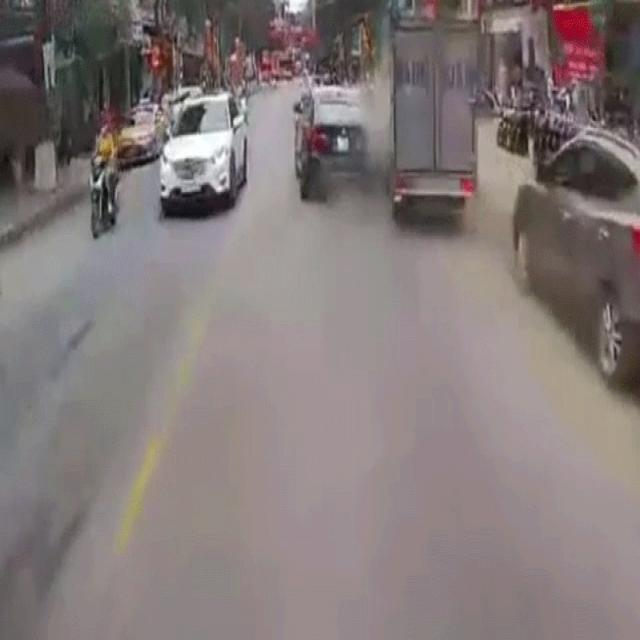multiple_accident: (289, 9, 486, 239)
normal: (56, 43, 269, 274)
